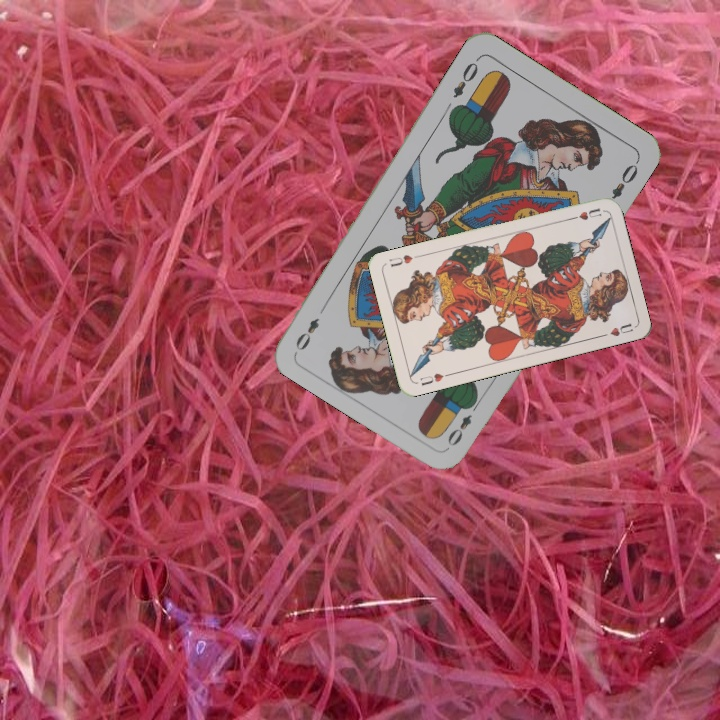EO: (443, 396, 483, 449), (449, 53, 482, 101)
HU: (566, 204, 604, 223), (416, 369, 453, 388)
